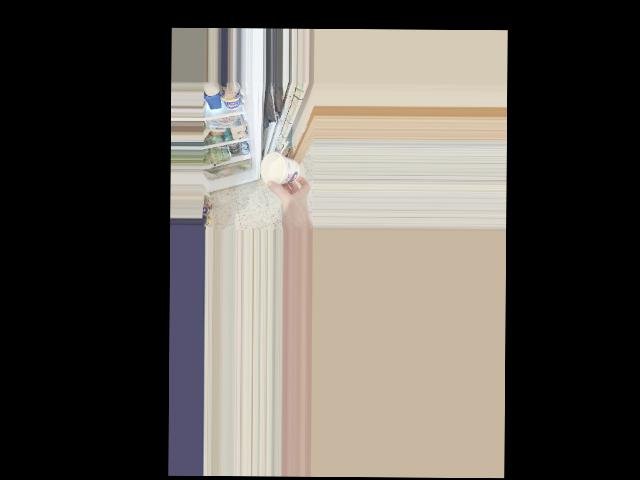cotage: (260, 155, 298, 185)
